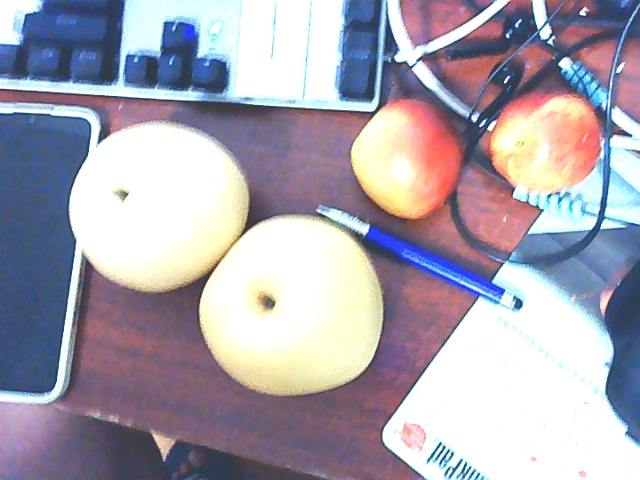peach: (348, 104, 467, 215), (489, 90, 597, 199)
pear: (198, 217, 387, 393), (70, 121, 242, 288)
